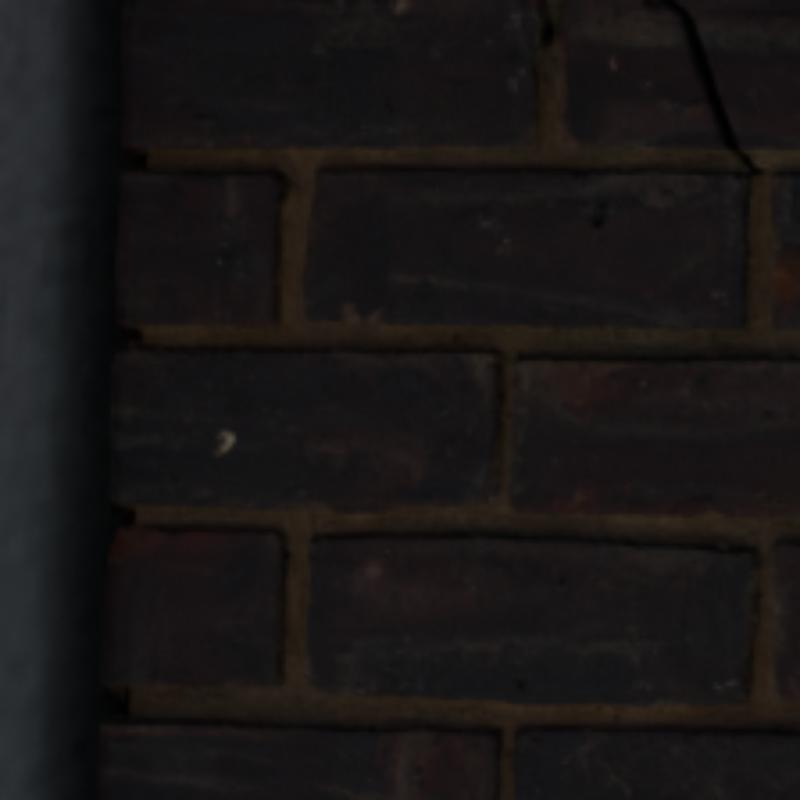pothole: (664, 0, 761, 171)
